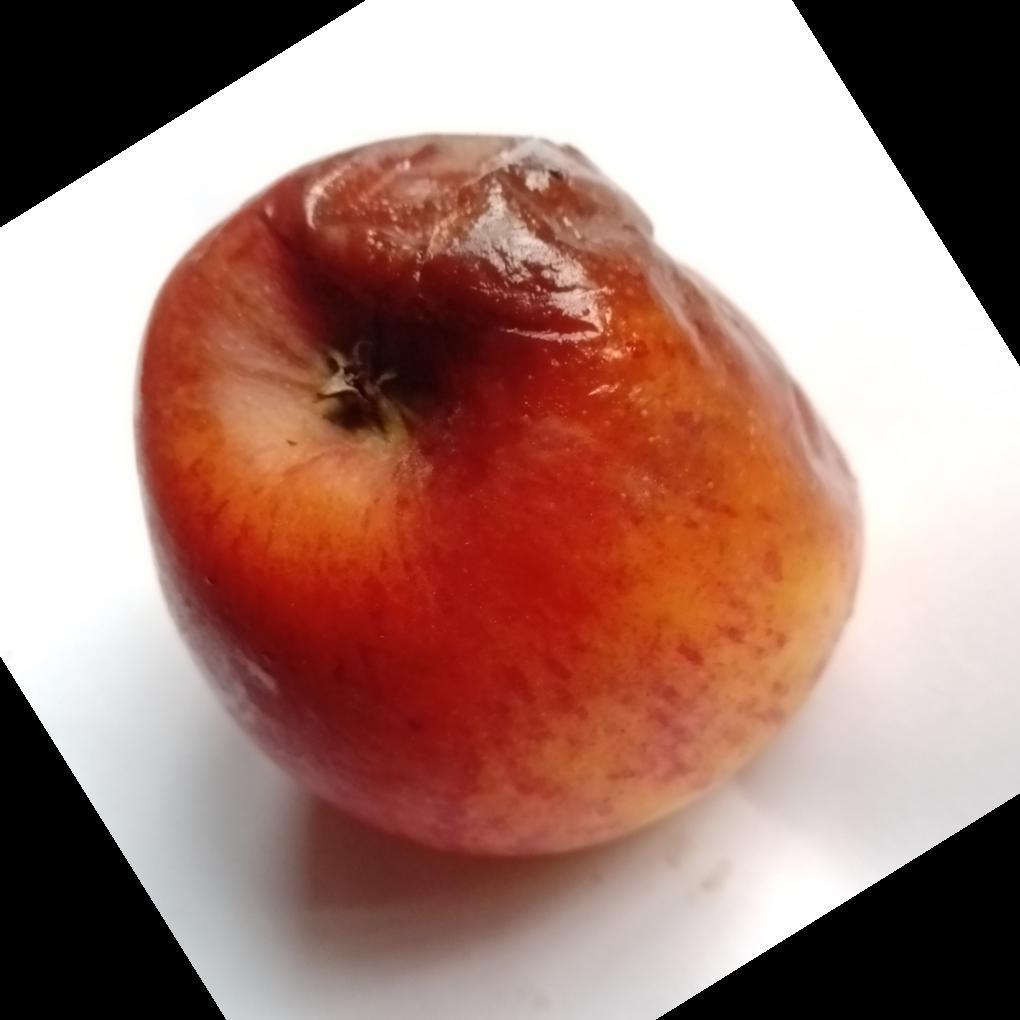FreshOrange: (131, 133, 864, 864)
